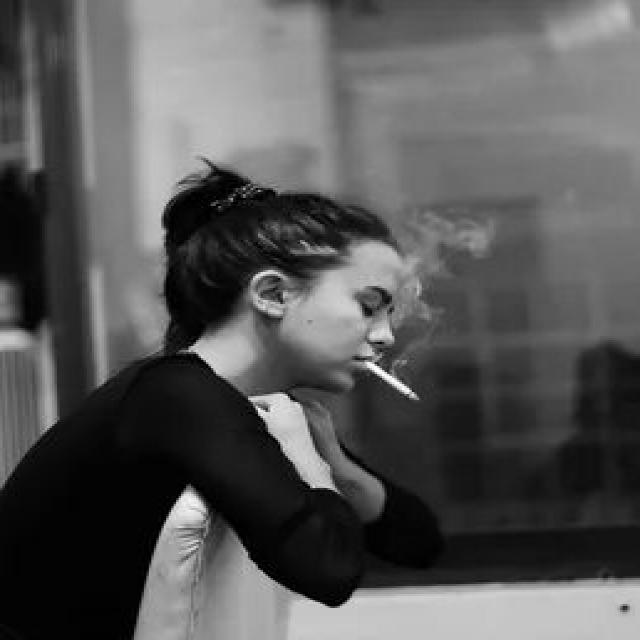smoke: (357, 352, 432, 406)
